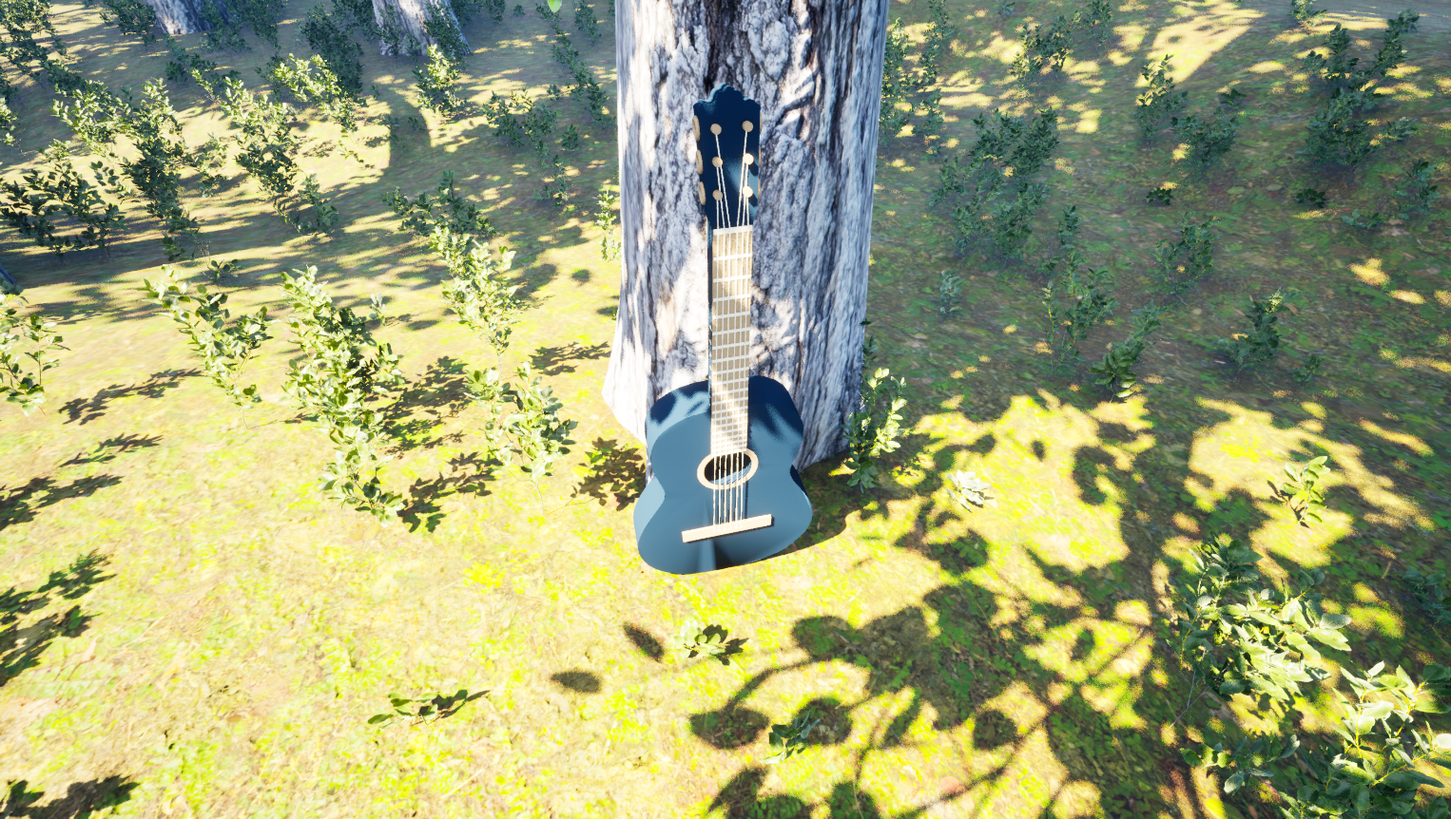Guitar: (558, 63, 885, 589)
